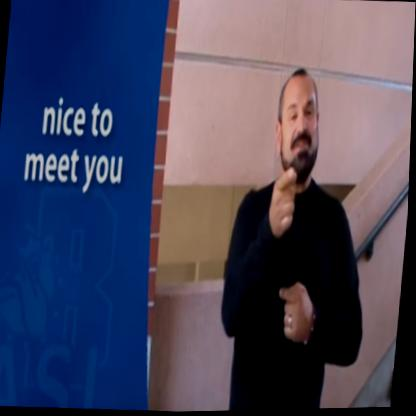NiceToMeetYou: (237, 150, 342, 381)
